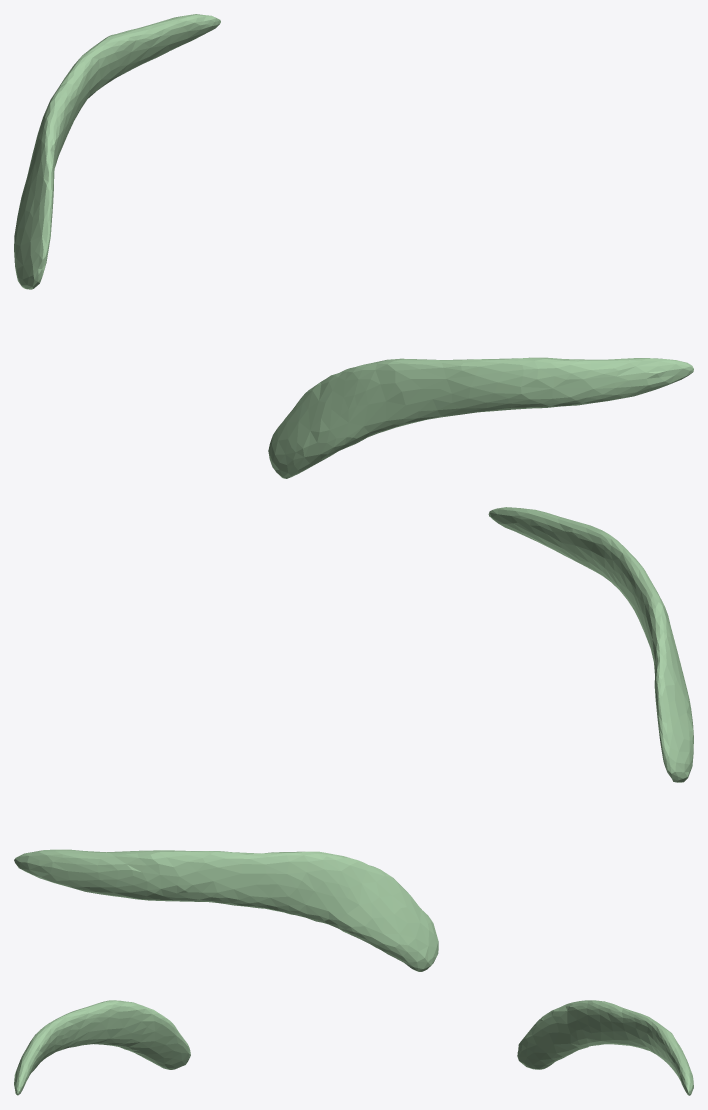
3 renders of one model, top to bottom at view 1: azimuth 30°, elevation 25°; view 2: azimuth 150°, elevation 25°; view 3: azimuth 270°, elevation 25°, orthographic. The views are drawn at different scales.
Parts seen in each view (by area): view 1: 583.obj; view 2: 583.obj; view 3: 583.obj.
Boxes of the visible parts, x1,y1,x2,y2 form: 583.obj: [14, 14, 693, 478]; 583.obj: [14, 507, 693, 971]; 583.obj: [14, 1000, 693, 1095].
Size of the model in its own units: 2844 by 1255 by 7633.
